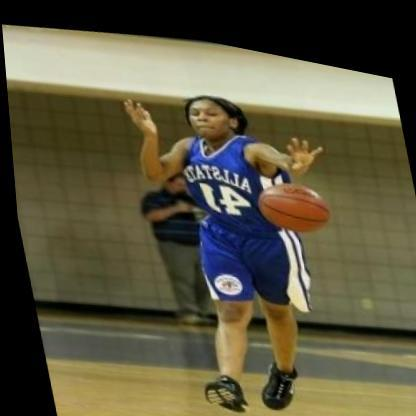basketball: (251, 161, 330, 229)
